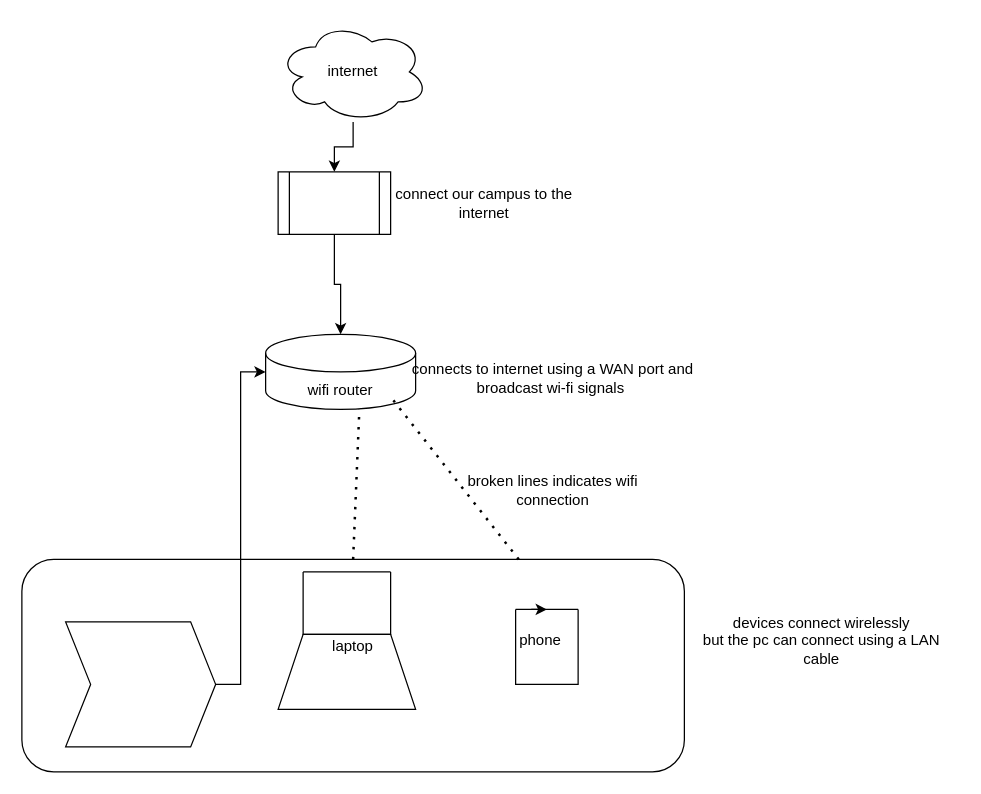
The diagram is 981 pixels wide and 794 high, and some of its shapes have lost their labels. The box of each missing label's shape, as (x1, y1, x2, y2) in pixels:
modem: (277, 171, 391, 234)
PC: (64, 621, 216, 747)
